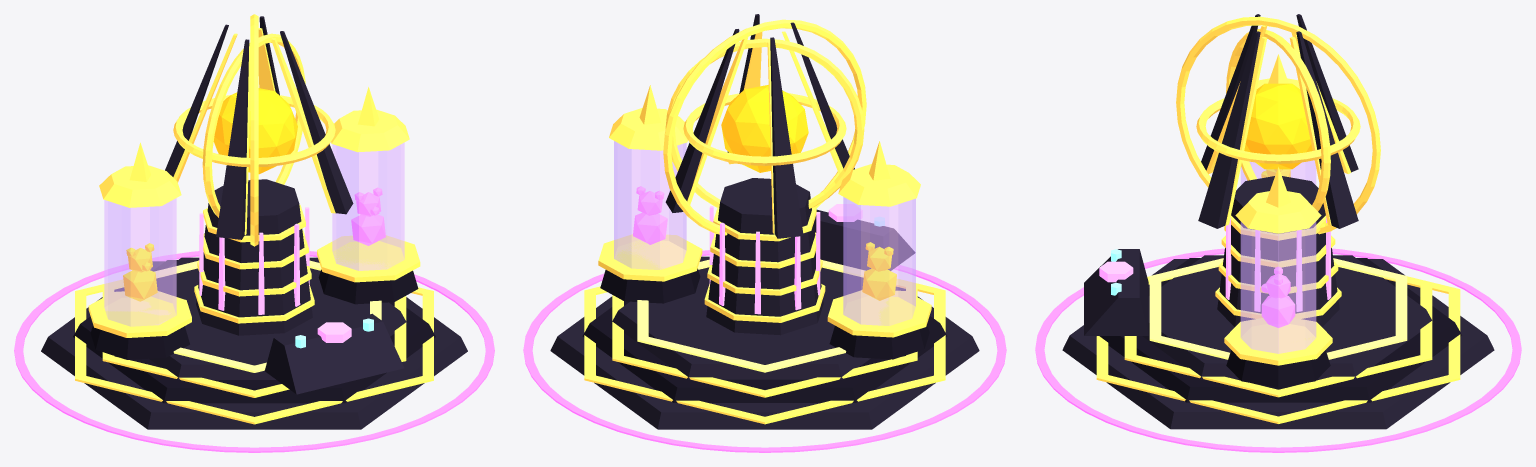
Rendered from Welt2_Fusionsmaschine.fbx.
3 views of the same model, side by side, from view 1: azimuth 30°, elevation 25°; view 2: azimuth 150°, elevation 25°; view 3: azimuth 270°, elevation 25° (orthographic).
Visible parts, largest first — view 1: Fusion_Podest0, Fusion_Saeule, Fusion_KapselL_Glas, Fusion_KapselR_Glas, Fusion_Podest2, Fusion_Konsole, Fusion_Siegel, Fusion_Podest1, Fusion_PodestKante0, Fusion_KapselR_SockelGold, Fusion_KapselL_SockelGold, Fusion_Kern (+27 smaller); view 2: Fusion_Podest2, Fusion_Podest0, Fusion_Saeule, Fusion_KapselL_Glas, Fusion_KapselR_Glas, Fusion_Podest1, Fusion_Siegel, Fusion_PodestKante0, Fusion_Kern, Fusion_Ring3, Fusion_KapselL_SockelGold, Fusion_KapselR_SockelGold (+28 smaller); view 3: Fusion_Podest2, Fusion_Podest0, Fusion_KapselR_Glas, Fusion_Podest1, Fusion_Saeule, Fusion_Siegel, Fusion_Ring3, Fusion_PodestKante0, Fusion_Konsole, Fusion_Kern, Fusion_PodestKante2, Fusion_KapselR_SockelGold (+21 smaller).
Boxes of the visible parts, x1,y1,x2,y2 form: Fusion_Podest0: (41,261,467,429); Fusion_Saeule: (196,179,312,335); Fusion_KapselL_Glas: (104,198,176,326); Fusion_KapselR_Glas: (332,142,404,270); Fusion_Podest2: (149,257,407,379); Fusion_Konsole: (264,313,404,394); Fusion_Siegel: (14,251,494,452); Fusion_Podest1: (73,260,435,403); Fusion_PodestKante0: (75,279,433,424); Fusion_KapselR_SockelGold: (317,235,420,282); Fusion_KapselL_SockelGold: (88,291,191,337); Fusion_Kern: (213,88,297,174); Fusion_Podest2: (611,256,870,379); Fusion_Podest0: (550,287,979,429); Fusion_Saeule: (706,178,823,335); Fusion_KapselL_Glas: (843,197,915,325); Fusion_KapselR_Glas: (614,141,686,269); Fusion_Podest1: (582,301,947,402); Fusion_Siegel: (523,250,1006,452); Fusion_PodestKante0: (584,279,945,424); Fusion_Kern: (721,85,808,172); Fusion_Ring3: (663,19,866,235); Fusion_KapselL_SockelGold: (827,290,931,337); Fusion_KapselR_SockelGold: (598,234,702,281); Fusion_Podest2: (1142,255,1433,379); Fusion_Podest0: (1062,259,1494,429); Fusion_KapselR_Glas: (1240,222,1316,353); Fusion_Podest1: (1096,258,1461,402); Fusion_Saeule: (1217,176,1339,326); Fusion_Siegel: (1035,248,1521,452); Fusion_Ring3: (1176,16,1380,234); Fusion_PodestKante0: (1096,276,1460,423); Fusion_Konsole: (1084,249,1148,335); Fusion_Kern: (1244,83,1312,169); Fusion_PodestKante2: (1149,258,1407,359); Fusion_KapselR_SockelGold: (1224,318,1332,365).
Bounding box in the file's own units: 40.5 × 30.39 × 40.5.
